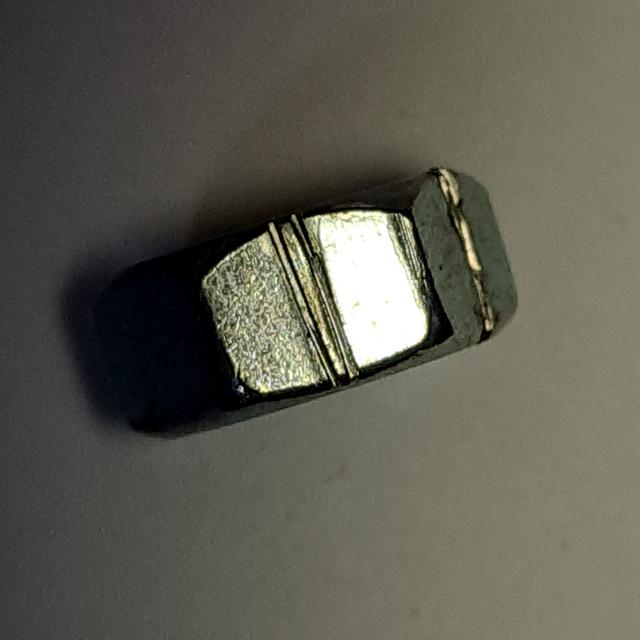Side_Scratches: (83, 147, 533, 466)
